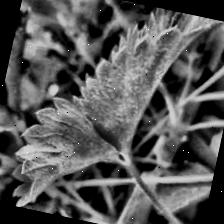Powdery Mildew Leaf: (3, 84, 140, 224)
